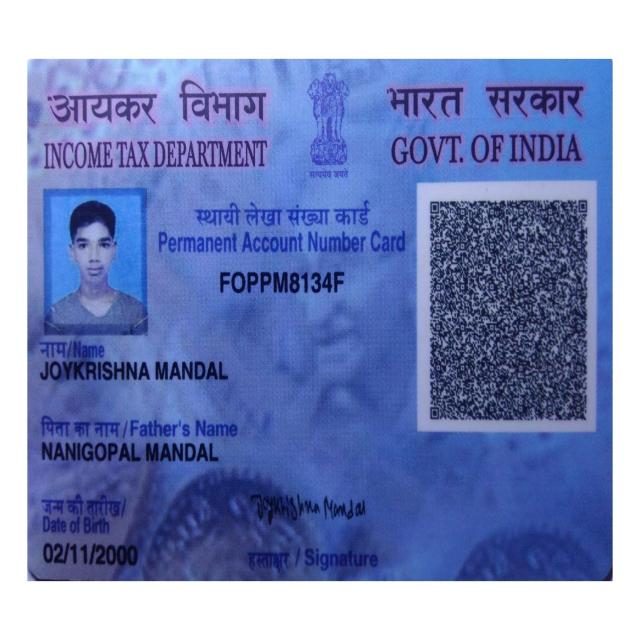pan_card: (27, 63, 611, 577)
